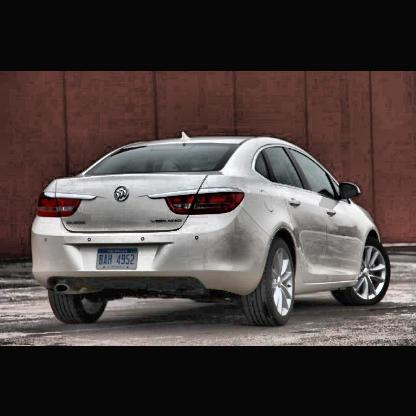Buick Verano Sedan 2012: (34, 131, 391, 326)
